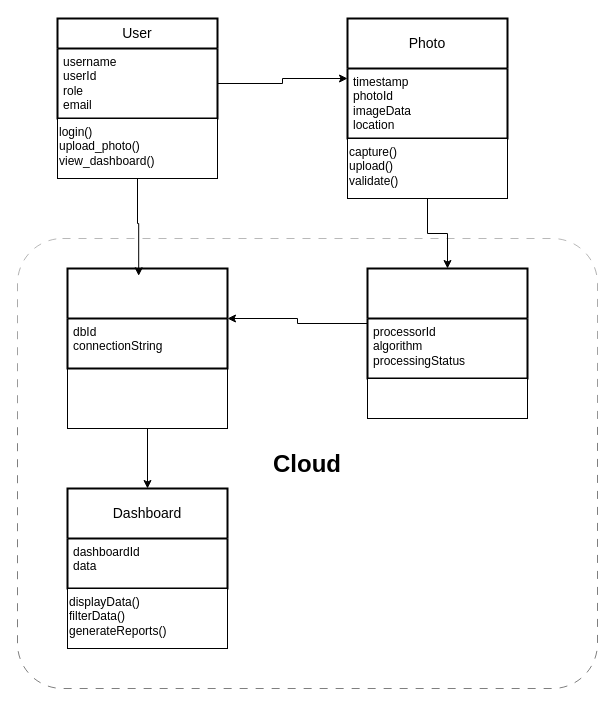
The diagram is 615 pixels wide and 706 high, and some of its shapes have lost their labels. Here are the shapes that lost their labels. From the top down, the box of each, then its label:
(66, 267, 228, 369): Database
(366, 267, 528, 379): image_processor
(66, 368, 228, 428): storePhotoData() retrieveData() storeUserData()
(366, 378, 528, 418): processImage() count_butts()
